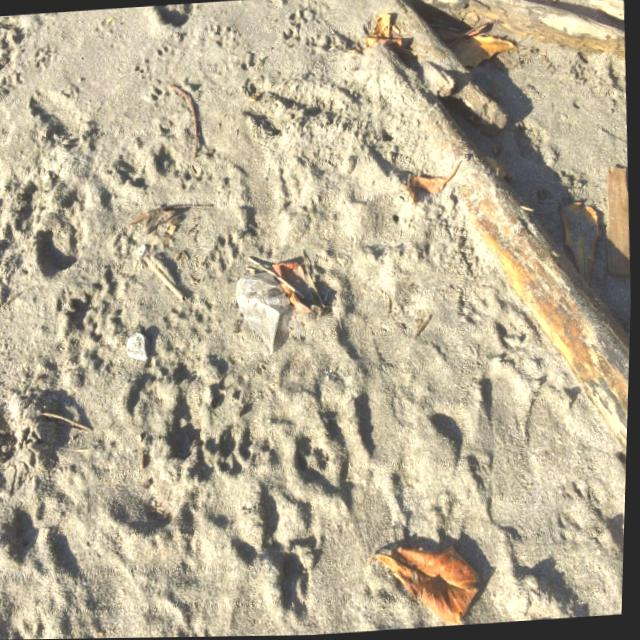Plastic: (229, 264, 306, 359)
